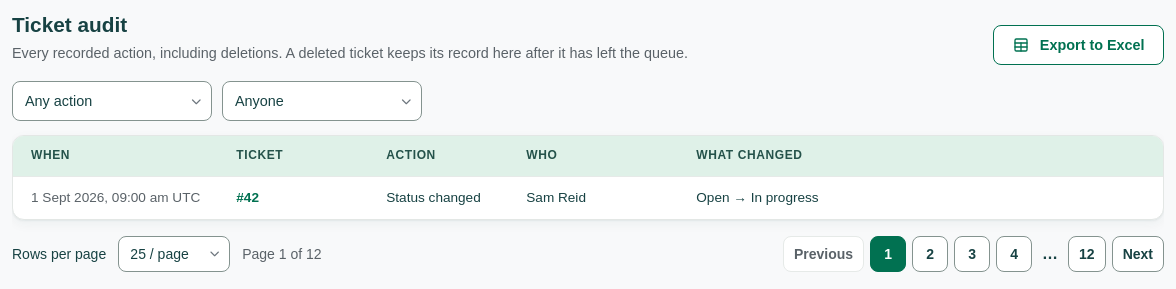
Test: the footer under the audit table › keeps counting pages while the next page loads (new)
This screenshot has width=1176, height=289.
Click the button named "Go to page 3" at (972, 254), box [954,236,990,272]
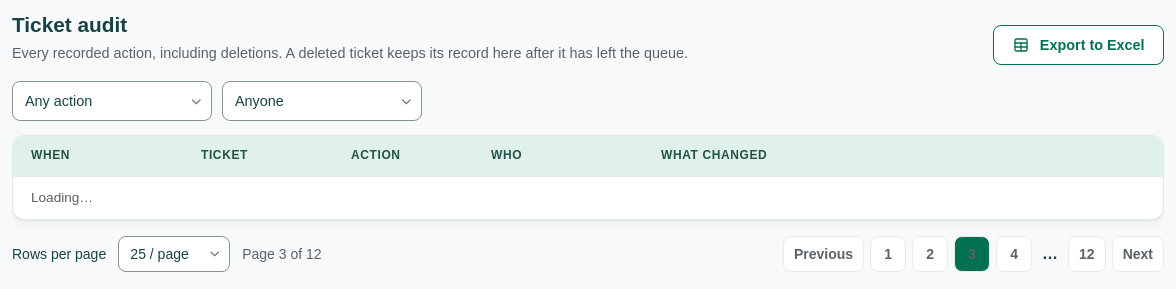
Expected: the text with class "audit-pager__info" reads "Page 3 of 12", [242,246,322,262]
